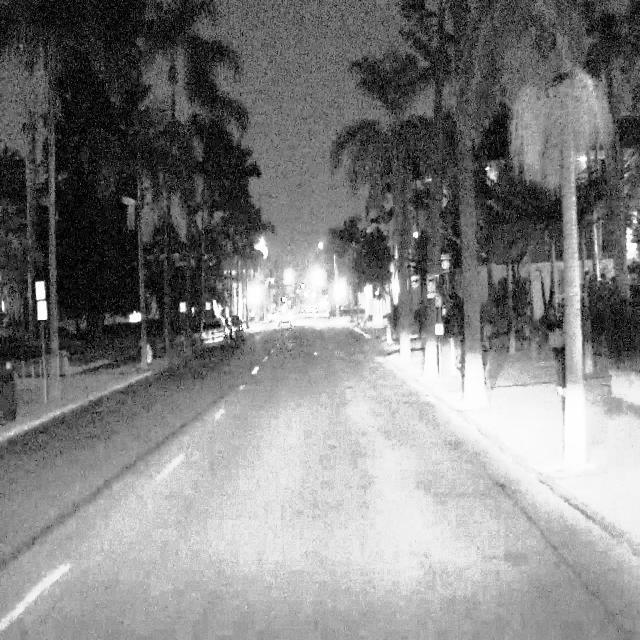Tree: (541, 0, 599, 482), (447, 0, 493, 409)
